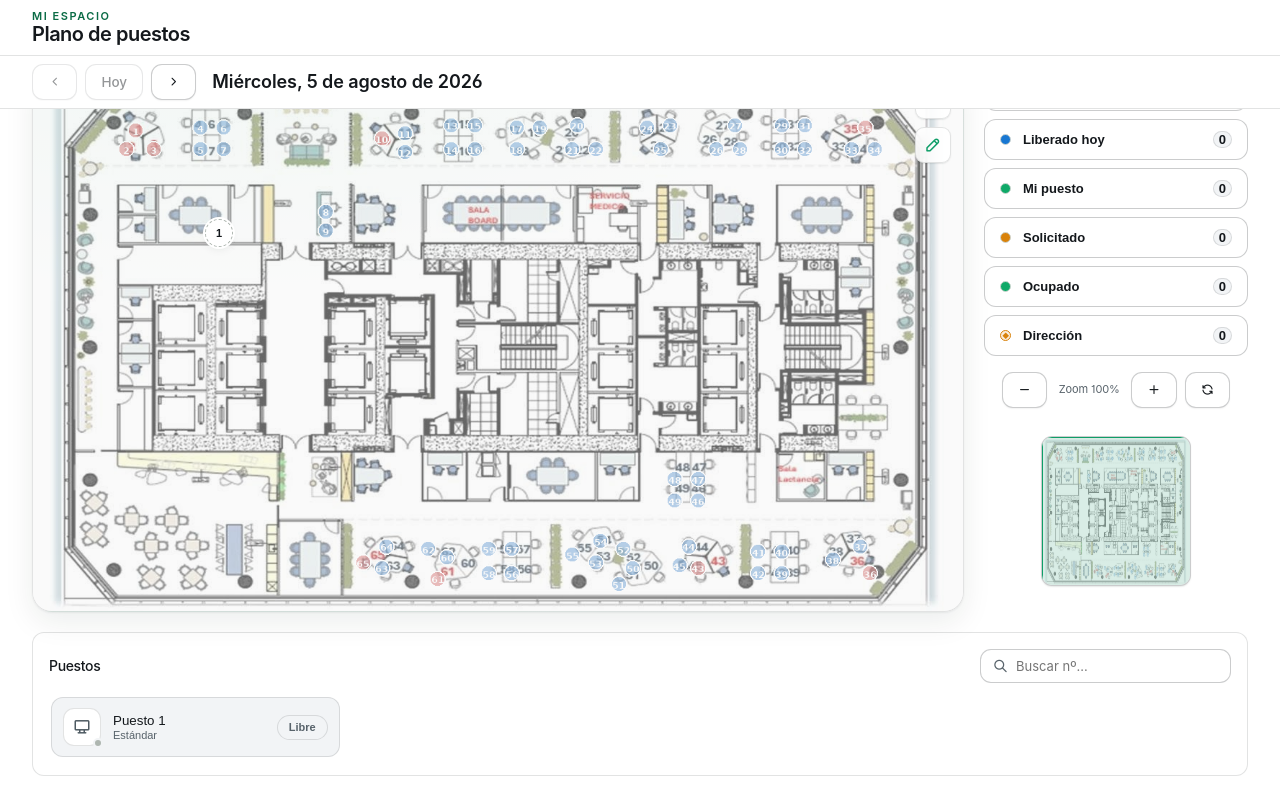
Test case: FloorPlanPage › should_open_assign_modal_when_admin_selects_a_free_desk
(page scrolled)
Expected: the button with test id "floor-marker" is shown, [205,219,233,247]
El ADMIN activa un puesto libre desde el listado → modal de asignación.
Click the button "Puesto 1 Estándar Libre" at x=82, y=727, box [51,697,340,757]
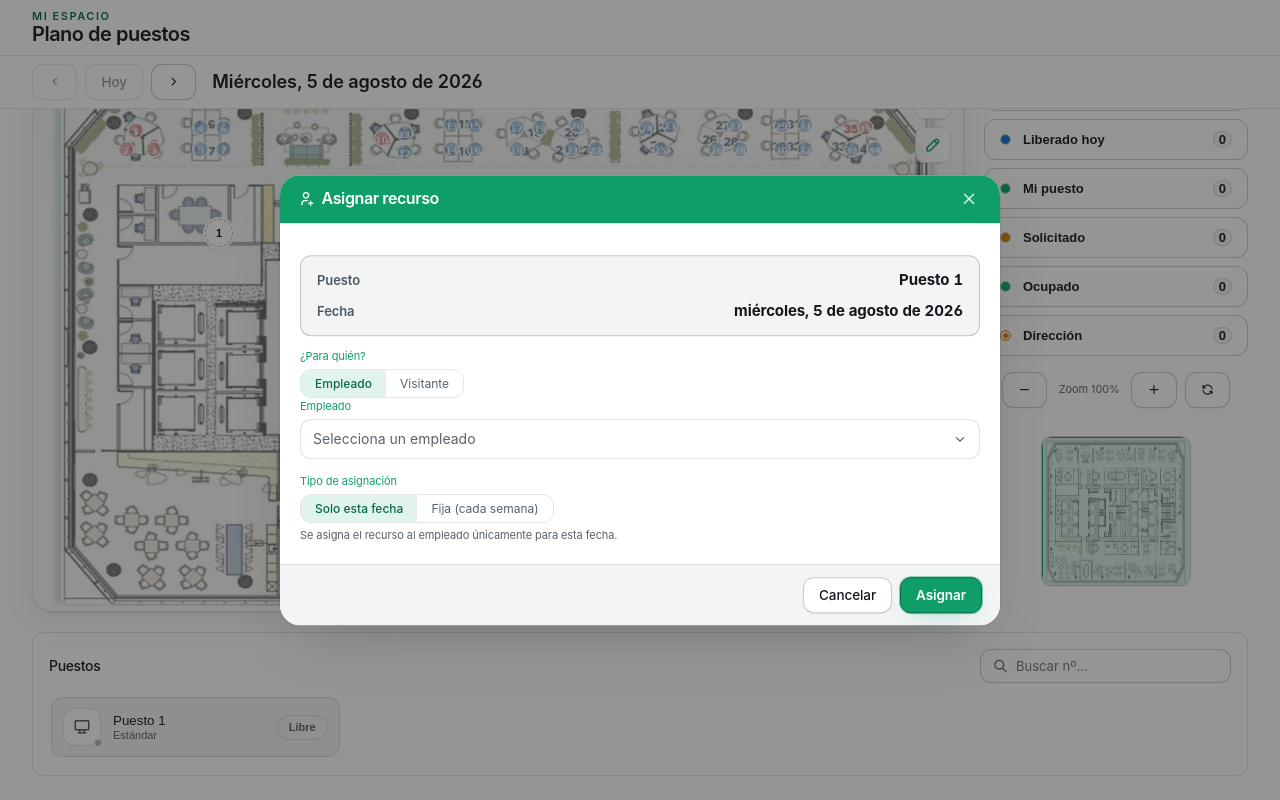
Expected: the heading "Asignar recurso" is shown, [298,190,439,208]
